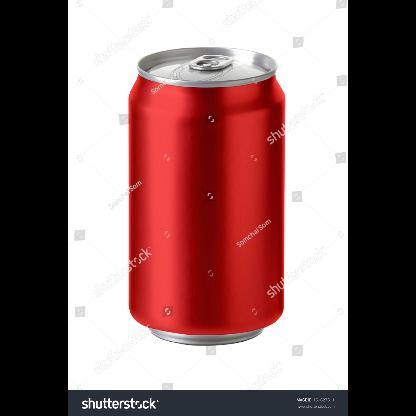Tin_Can: (122, 41, 292, 353)
